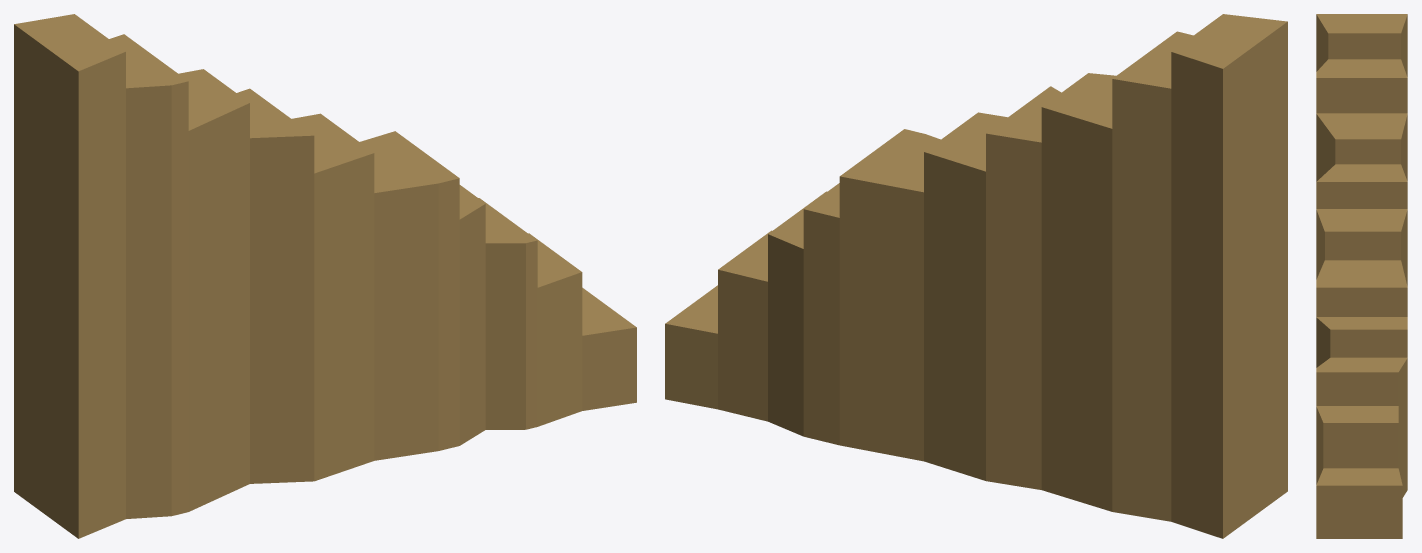
File: Terrain_Tile_Dirt_Stairs_01.fbx
The picture shows the model from 3 angles, left to right: view 1: azimuth 30°, elevation 25°; view 2: azimuth 150°, elevation 25°; view 3: azimuth 270°, elevation 25°; orthographic projection. The views are drawn at different scales.
Parts seen in each view (by area): view 1: Terrain_Tile_Dirt_Stairs_01; view 2: Terrain_Tile_Dirt_Stairs_01; view 3: Terrain_Tile_Dirt_Stairs_01.
Part boxes in pixels (<box>): Terrain_Tile_Dirt_Stairs_01: <box>14,14,636,538</box>; Terrain_Tile_Dirt_Stairs_01: <box>665,14,1287,538</box>; Terrain_Tile_Dirt_Stairs_01: <box>1316,14,1407,538</box>.
Bounding box in the file's own units: 157 × 126 × 31.5.
